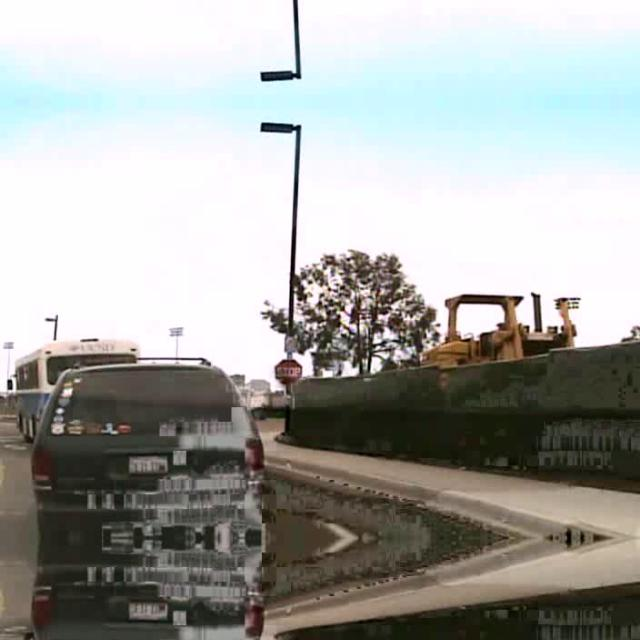stop: (273, 358, 301, 384)
